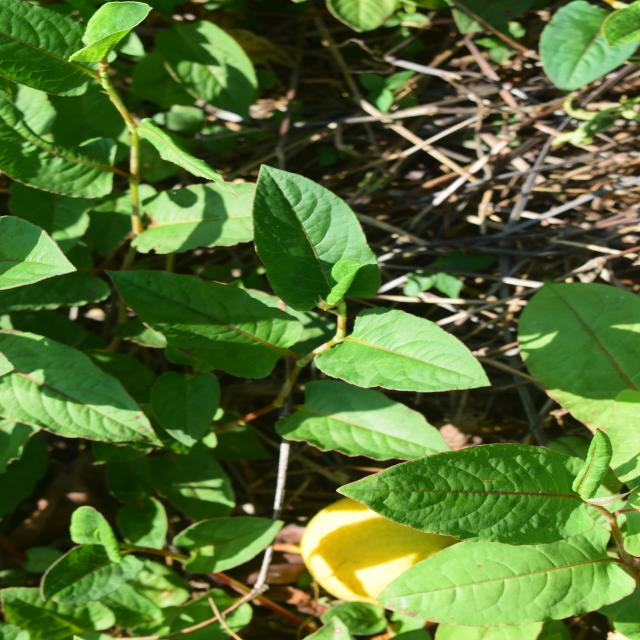Chinese_knotweed: (205, 106, 428, 454), (2, 340, 223, 622)
